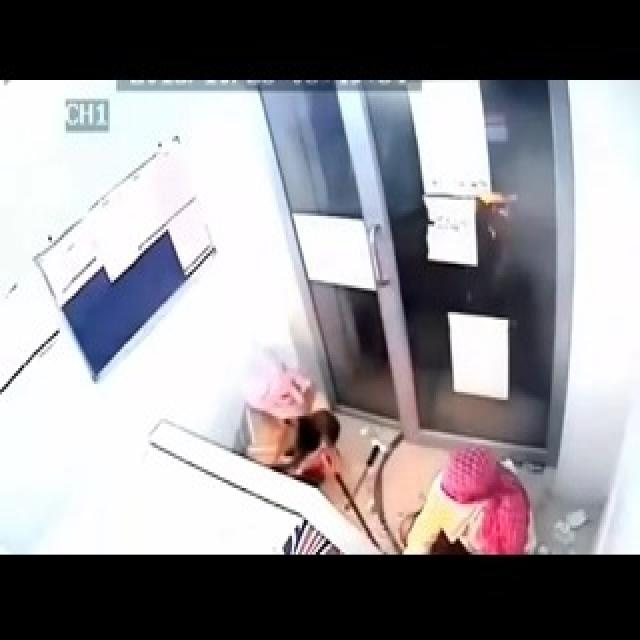thief: (389, 431, 541, 554), (239, 333, 350, 492)
